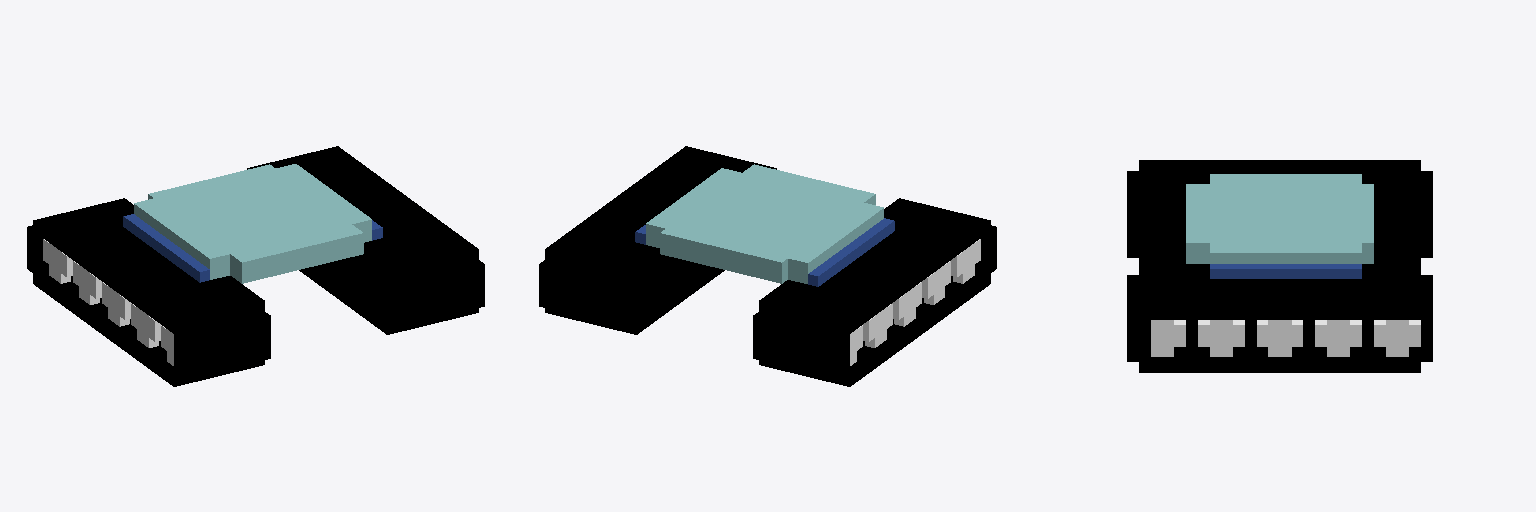
3 views of the same model, side by side, from view 1: azimuth 30°, elevation 25°; view 2: azimuth 150°, elevation 25°; view 3: azimuth 270°, elevation 25° (orthographic).
Parts seen in each view (by area): view 1: object 1; view 2: object 1; view 3: object 1.
Part boxes in pixels (x1,y1,x2,y2): object 1: (27,146,484,386); object 1: (539,146,996,386); object 1: (1127,160,1432,372).
Size of the model in its own units: 3 by 0.8 by 2.6.
1 materials, 1 textured.